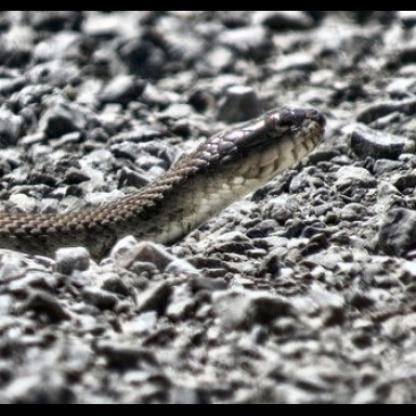Snake: (9, 104, 326, 254)
